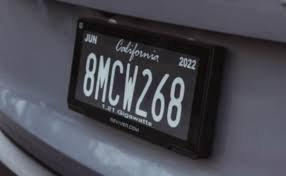Liscence Plate: (78, 20, 194, 144)
